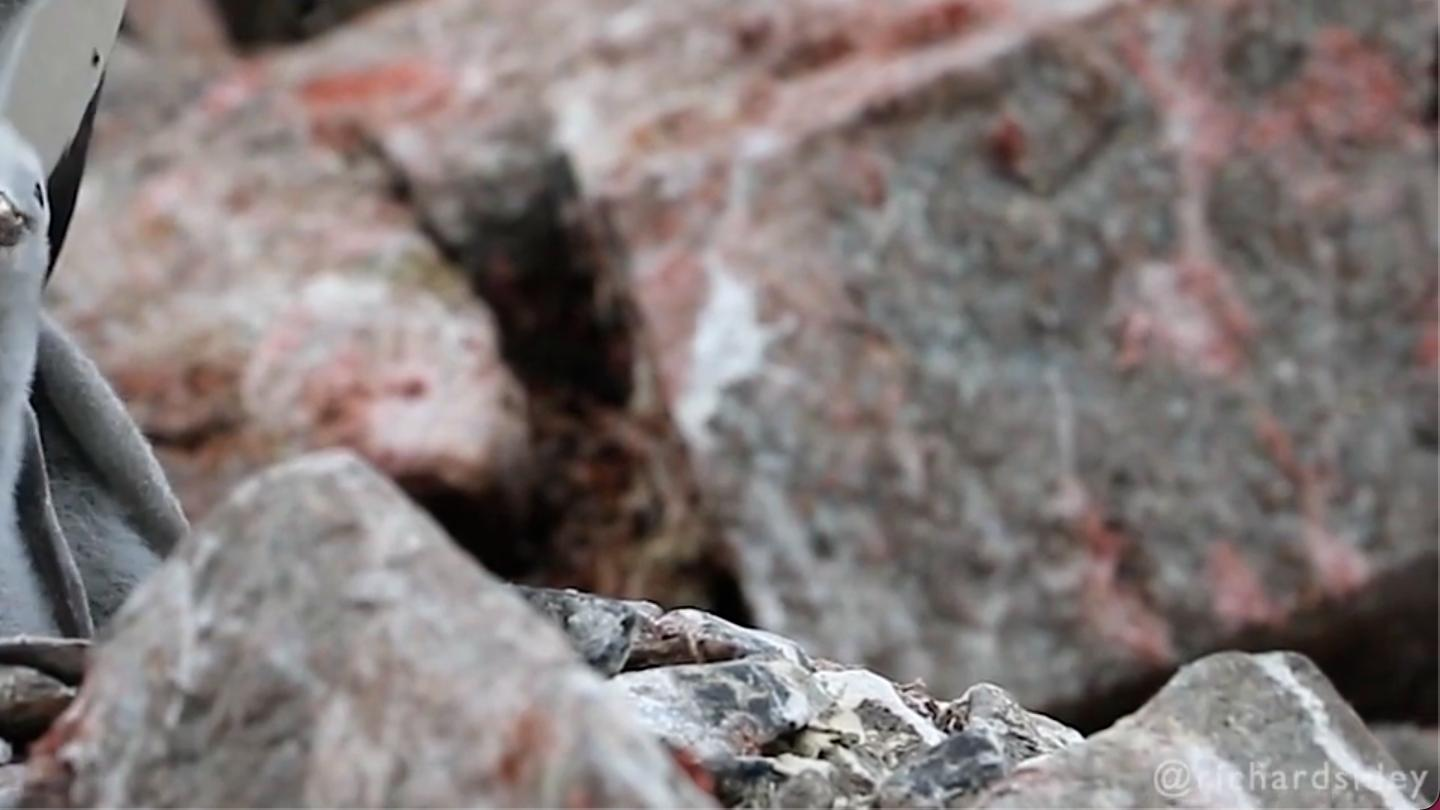Chinstrap Penguin: (0, 0, 474, 15)
